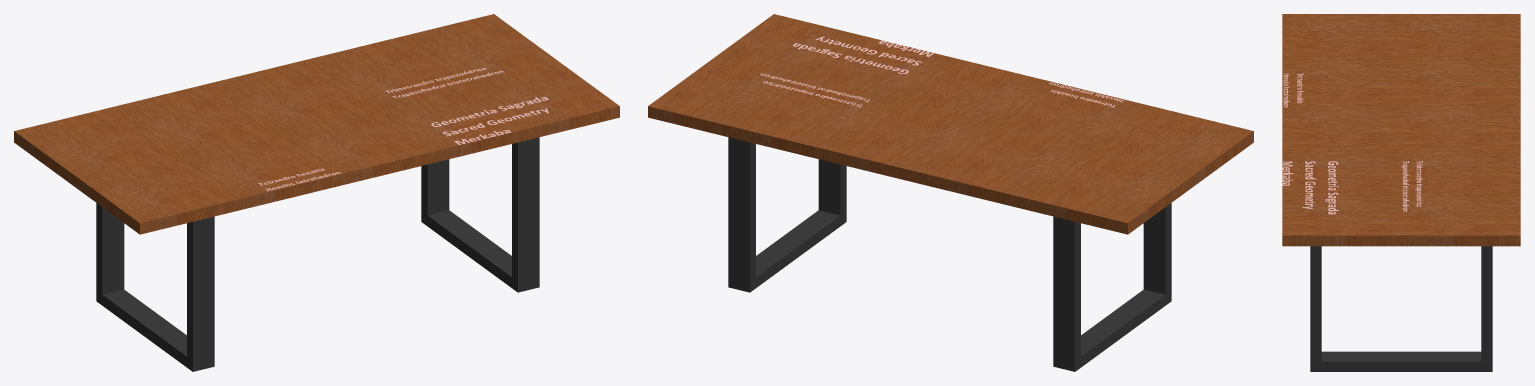
The model's file is geomSagrada9.glb.
3 views of the same model, side by side, from view 1: azimuth 30°, elevation 25°; view 2: azimuth 150°, elevation 25°; view 3: azimuth 270°, elevation 25° (orthographic). The views are drawn at different scales.
Visible parts, largest first — view 1: object 1, Composant#1 (×2), Geometria Sagrad#2, Tristetraedro tr; view 2: object 1, Composant#1 (×2), Geometria Sagrad#2, Tristetraedro tr; view 3: object 1, Composant#1, Geometria Sagrad#2, Tristetraedro tr, Tetraedro hexaki.
Part boxes in pixels (<box>): object 1: <box>14,14,619,234</box>; Composant#1 (×2): <box>96,137,539,371</box>; Geometria Sagrad#2: <box>431,97,548,144</box>; Tristetraedro tr: <box>384,67,503,98</box>; object 1: <box>648,14,1253,234</box>; Composant#1 (×2): <box>728,137,1171,371</box>; Geometria Sagrad#2: <box>793,36,933,73</box>; Tristetraedro tr: <box>760,73,869,107</box>; object 1: <box>1282,14,1520,246</box>; Composant#1: <box>1310,246,1492,371</box>; Geometria Sagrad#2: <box>1282,161,1338,214</box>; Tristetraedro tr: <box>1401,161,1422,211</box>; Tetraedro hexaki: <box>1283,73,1303,107</box>.
Bounding box in the file's own units: 2.2 × 0.7711 × 1.
3 materials, 1 textured.
